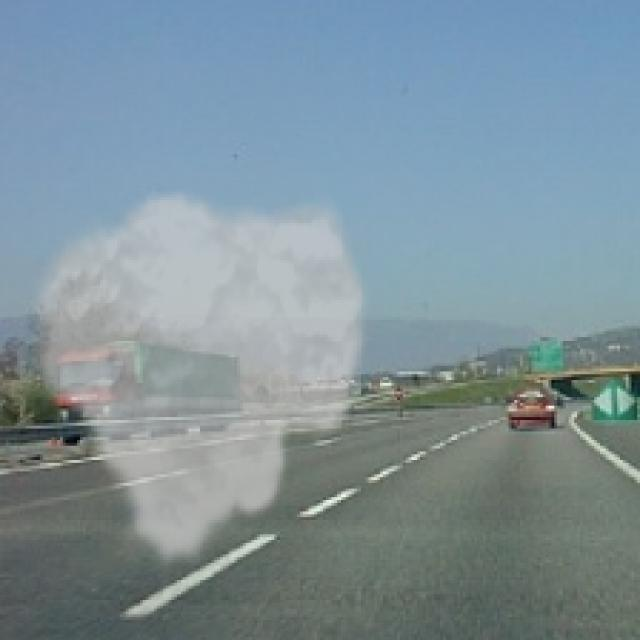smoke: (23, 186, 374, 571)
